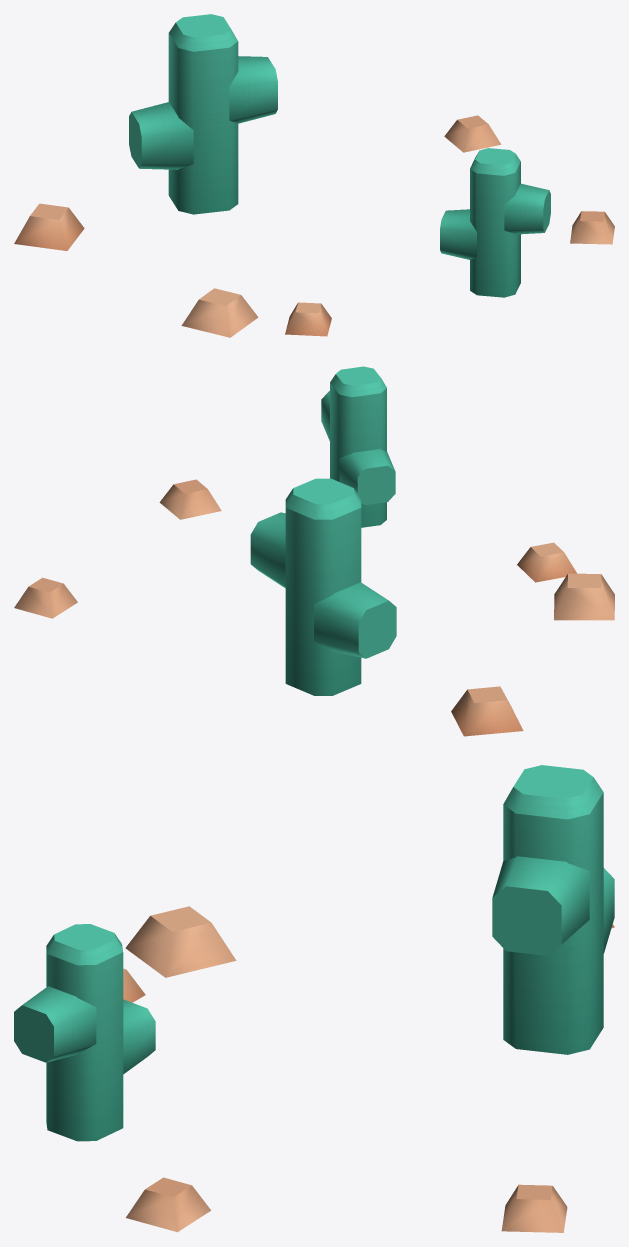
File: desert_decorations.fbx
3 views of the same model, one above another, from view 1: azimuth 30°, elevation 25°; view 2: azimuth 150°, elevation 25°; view 3: azimuth 270°, elevation 25° (orthographic). The views are drawn at different scales.
Visible parts, largest first — view 1: sand_desert; view 2: sand_desert; view 3: sand_desert.
Part boxes in pixels (<box>): sand_desert: <box>14,14,614,337</box>; sand_desert: <box>14,366,614,736</box>; sand_desert: <box>14,765,614,1232</box>.
Size of the model in its own units: 87.53 by 31 by 67.09.
